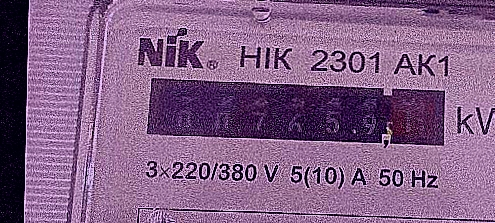0: (212, 107, 232, 132), (174, 105, 193, 131)
1: (401, 104, 416, 136)
5: (321, 107, 344, 135)
6: (285, 109, 305, 134)
7: (248, 108, 269, 134)
9: (359, 110, 378, 137)
screen: (137, 65, 457, 162)
